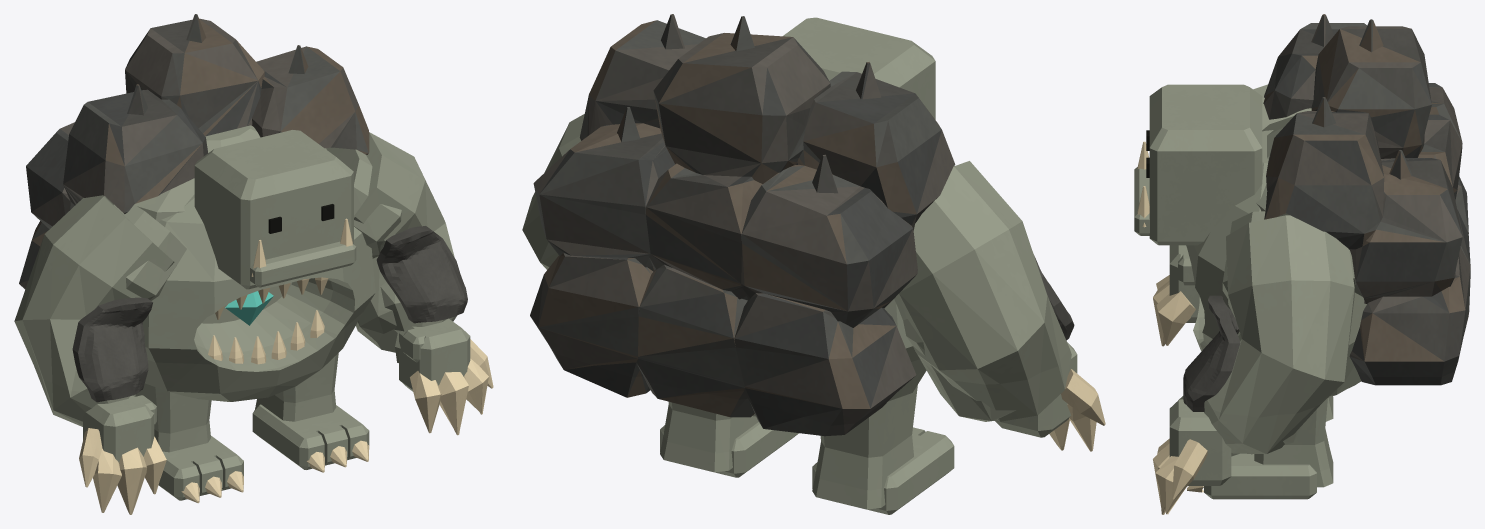
File: host_49.glb
3 views of the same model, side by side, from view 1: azimuth 30°, elevation 25°; view 2: azimuth 150°, elevation 25°; view 3: azimuth 270°, elevation 25° (orthographic). The views are drawn at different scales.
Parts seen in each view (by area): view 1: Body — continuous source torso, four joints and planted legs, Shell — nine source rock slabs joined into one overlapping s, Head — complete continuous skull and neck, Shell — source broad forearm guard 1, Shell — source broad forearm guard -1, Hand — LEFT connected source fist and wrist, Hand — RIGHT connected source fist and wrist, Face — broad source lower jaw, Maw — RIGHT broad hand claw 0, Maw — LEFT broad hand claw 0, Maw — LEFT broad hand claw 1, Maw — RIGHT broad hand claw 1 (+4 smaller); view 2: Shell — nine source rock slabs joined into one overlapping s, Body — continuous source torso, four joints and planted legs, Head — complete continuous skull and neck, Hand — RIGHT connected source fist and wrist, Maw — RIGHT broad hand claw short source side, Shell — source broad forearm guard 1, Maw — RIGHT broad hand claw 1; view 3: Shell — nine source rock slabs joined into one overlapping s, Body — continuous source torso, four joints and planted legs, Head — complete continuous skull and neck, Shell — source broad forearm guard -1, Hand — LEFT connected source fist and wrist, Hand — RIGHT connected source fist and wrist, Maw — RIGHT broad hand claw -1, Maw — LEFT broad hand claw short source side, Face — broad source lower jaw, Maw — LEFT broad hand claw -1, Maw — RIGHT broad hand claw 0.
Part boxes in pixels (x1=…): Body — continuous source torso, four joints and planted legs: x1=14, y1=125, x2=456, y2=500; Shell — nine source rock slabs joined into one overlapping s: x1=19, y1=14, x2=369, y2=289; Head — complete continuous skull and neck: x1=194, y1=130, x2=353, y2=289; Shell — source broad forearm guard 1: x1=72, y1=297, x2=152, y2=402; Shell — source broad forearm guard -1: x1=376, y1=226, x2=467, y2=323; Hand — LEFT connected source fist and wrist: x1=395, y1=318, x2=470, y2=391; Hand — RIGHT connected source fist and wrist: x1=83, y1=395, x2=156, y2=462; Face — broad source lower jaw: x1=250, y1=241, x2=356, y2=287; Maw — RIGHT broad hand claw 0: x1=117, y1=447, x2=146, y2=514; Maw — LEFT broad hand claw 0: x1=439, y1=372, x2=468, y2=435; Maw — LEFT broad hand claw 1: x1=410, y1=371, x2=441, y2=433; Maw — RIGHT broad hand claw 1: x1=93, y1=449, x2=121, y2=512; Shell — nine source rock slabs joined into one overlapping s: x1=530, y1=14, x2=955, y2=436; Body — continuous source torso, four joints and planted legs: x1=522, y1=114, x2=1071, y2=514; Head — complete continuous skull and neck: x1=783, y1=17, x2=935, y2=119; Hand — RIGHT connected source fist and wrist: x1=995, y1=342, x2=1077, y2=437; Maw — RIGHT broad hand claw short source side: x1=1061, y1=369, x2=1105, y2=425; Shell — source broad forearm guard 1: x1=1034, y1=255, x2=1074, y2=340; Maw — RIGHT broad hand claw 1: x1=1067, y1=404, x2=1096, y2=451; Shell — nine source rock slabs joined into one overlapping s: x1=1263, y1=14, x2=1470, y2=385; Body — continuous source torso, four joints and planted legs: x1=1186, y1=84, x2=1366, y2=499; Head — complete continuous skull and neck: x1=1149, y1=84, x2=1262, y2=245; Shell — source broad forearm guard -1: x1=1183, y1=295, x2=1240, y2=411; Hand — LEFT connected source fist and wrist: x1=1169, y1=396, x2=1239, y2=485; Hand — RIGHT connected source fist and wrist: x1=1169, y1=245, x2=1199, y2=322; Maw — RIGHT broad hand claw -1: x1=1156, y1=291, x2=1195, y2=345; Maw — LEFT broad hand claw short source side: x1=1172, y1=439, x2=1207, y2=499; Face — broad source lower jaw: x1=1134, y1=167, x2=1149, y2=235; Maw — LEFT broad hand claw -1: x1=1155, y1=456, x2=1187, y2=514; Maw — RIGHT broad hand claw 0: x1=1153, y1=280, x2=1169, y2=346.
Bounding box in the file's own units: 7.03 × 6.52 × 4.6.
9 materials, 7 textured.
